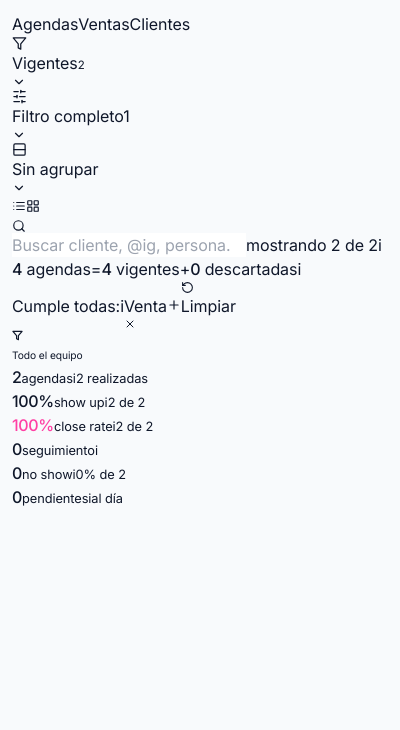
Test case: Revisar · la fila de etiquetas del filtro › Limpiar saca las etiquetas y el origen
Click the button "Limpiar" at (208, 300), box [181,281,236,318]
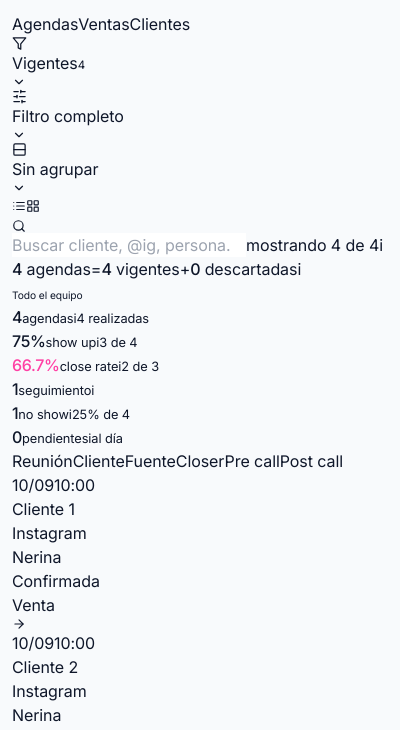
Result: the text "Cumple todas:" is gone
Result: the number of buttons named "Abrir " is 4
